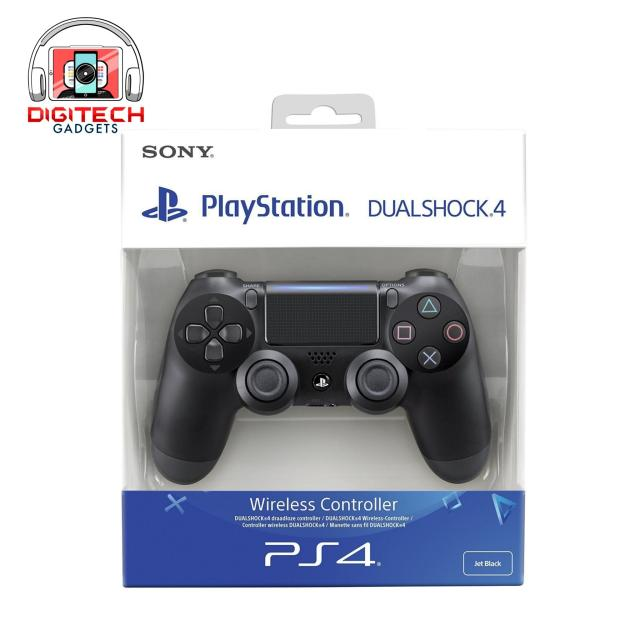ps4_controller: (140, 240, 496, 502)
